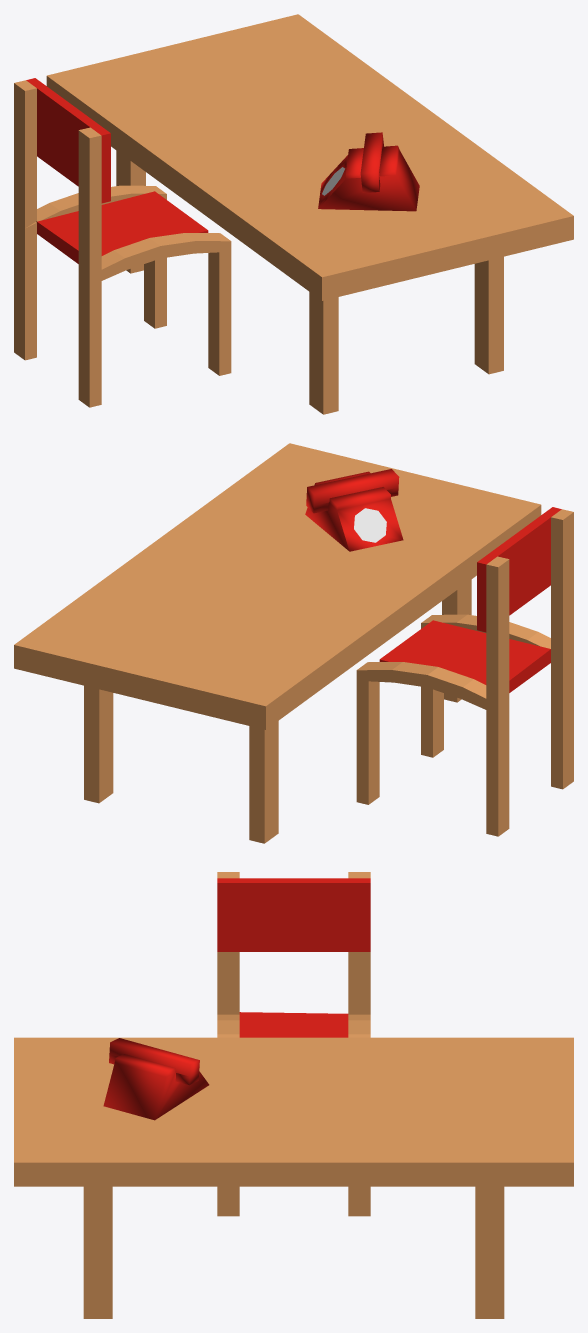
Rendered from Table_Mix.fbx.
The picture shows the model from 3 angles, top to bottom: view 1: azimuth 30°, elevation 25°; view 2: azimuth 150°, elevation 25°; view 3: azimuth 270°, elevation 25°; orthographic projection.
Parts seen in each view (by area): view 1: Cube.001, Cube.002, Cube, Cube.003; view 2: Cube.001, Cube.002, Cube, Cube.003; view 3: Cube.001, Cube.002, Cube, Cube.003.
Boxes of the visible parts, x1,y1,x2,y2 form: Cube.001: (46,14,573,414); Cube.002: (14,78,231,407); Cube: (318,145,419,211); Cube.003: (360,132,383,192); Cube.001: (14,443,541,843); Cube.002: (356,507,573,836); Cube: (305,471,403,551); Cube.003: (306,469,399,513); Cube.001: (14,1037,573,1318); Cube.002: (217,872,370,1216); Cube: (103,1054,209,1120); Cube.003: (109,1038,199,1085).
Size of the model in its own units: 418 by 280 by 519.
